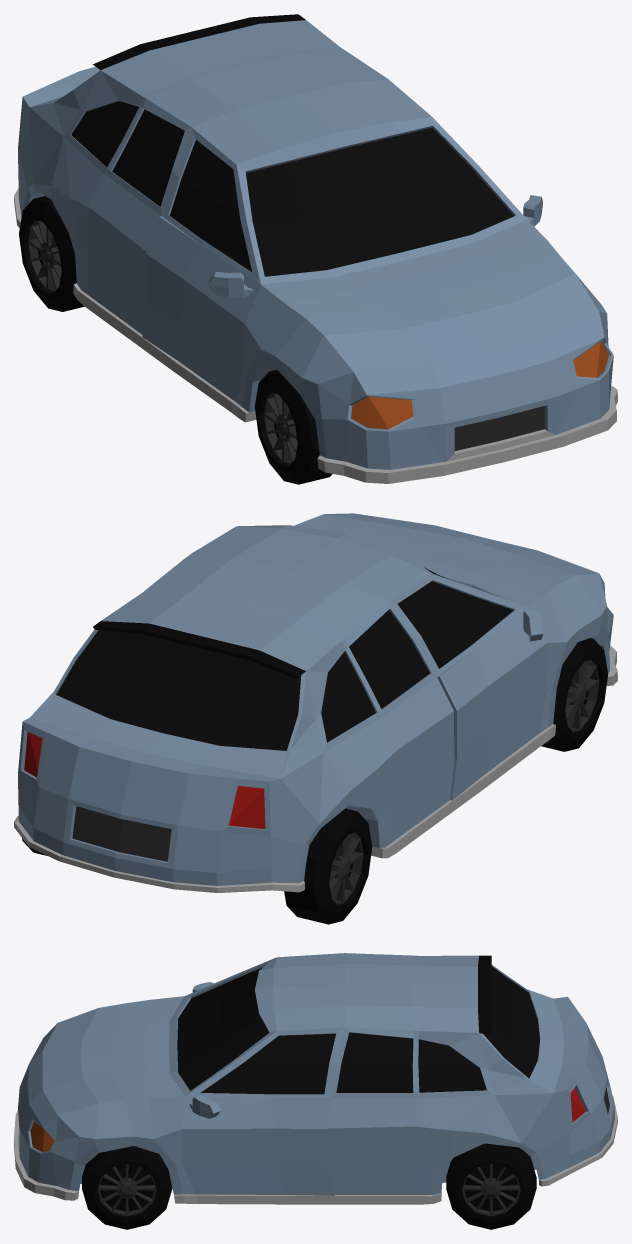
Rendered from sedan2.glb.
3 views of the same model, one above another, from view 1: azimuth 30°, elevation 25°; view 2: azimuth 150°, elevation 25°; view 3: azimuth 270°, elevation 25° (orthographic). The views are drawn at different scales.
Parts seen in each view (by area): view 1: NormalCar2_Cube.002, NormalCar2_FrontRightWheel_Cylinder.016, NormalCar2_BackWheels_Cylinder.003; view 2: NormalCar2_Cube.002, NormalCar2_BackWheels_Cylinder.003, NormalCar2_FrontRightWheel_Cylinder.016; view 3: NormalCar2_Cube.002, NormalCar2_BackWheels_Cylinder.003, NormalCar2_FrontLeftWheel_Cylinder.015.
Boxes of the visible parts, x1=… form: NormalCar2_Cube.002: x1=14, y1=14, x2=617, y2=483; NormalCar2_FrontRightWheel_Cylinder.016: x1=254, y1=369, x2=332, y2=484; NormalCar2_BackWheels_Cylinder.003: x1=19, y1=196, x2=84, y2=311; NormalCar2_Cube.002: x1=14, y1=513, x2=617, y2=892; NormalCar2_BackWheels_Cylinder.003: x1=22, y1=808, x2=372, y2=924; NormalCar2_FrontRightWheel_Cylinder.016: x1=541, y1=638, x2=607, y2=751; NormalCar2_Cube.002: x1=14, y1=953, x2=617, y2=1204; NormalCar2_BackWheels_Cylinder.003: x1=446, y1=1143, x2=536, y2=1229; NormalCar2_FrontLeftWheel_Cylinder.015: x1=82, y1=1146, x2=172, y2=1229.
Size of the model in its own units: 1.64 by 1.15 by 3.31.
